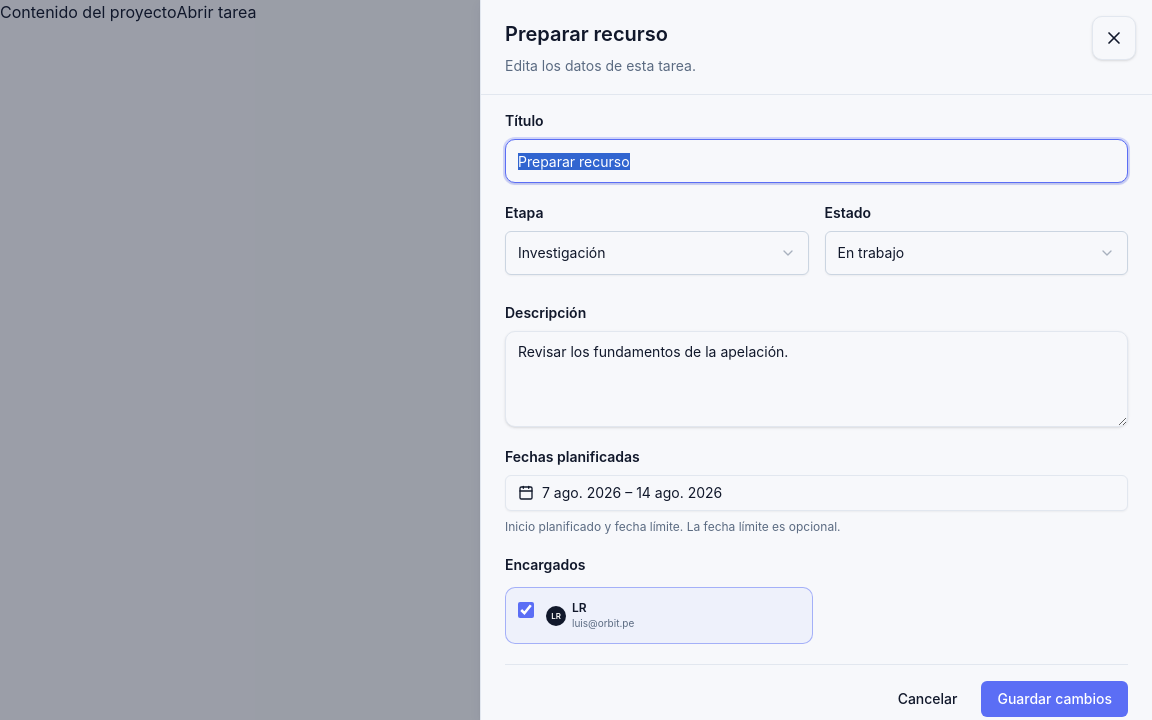
Test: ProjectTaskSheet › does not cache retained stale data when an update-conflict refetch fails
The width and height of the screenshot is (1152, 720).
Step 1. Replace the text in the field labelled "Título" with "Mi edición desactualizada" → {"x": 816, "y": 161}, box x1=505 y1=139 x2=1128 y2=183
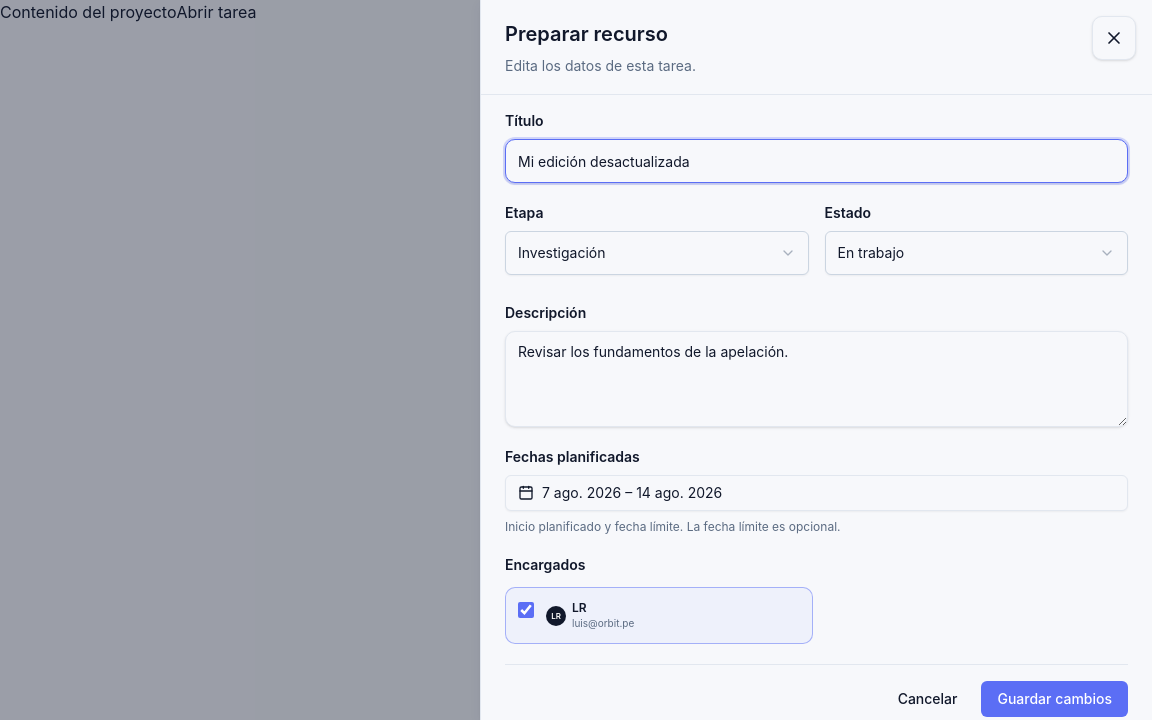
Step 2. Click the button "Guardar cambios" → {"x": 1055, "y": 699}, box x1=982 y1=681 x2=1128 y2=717
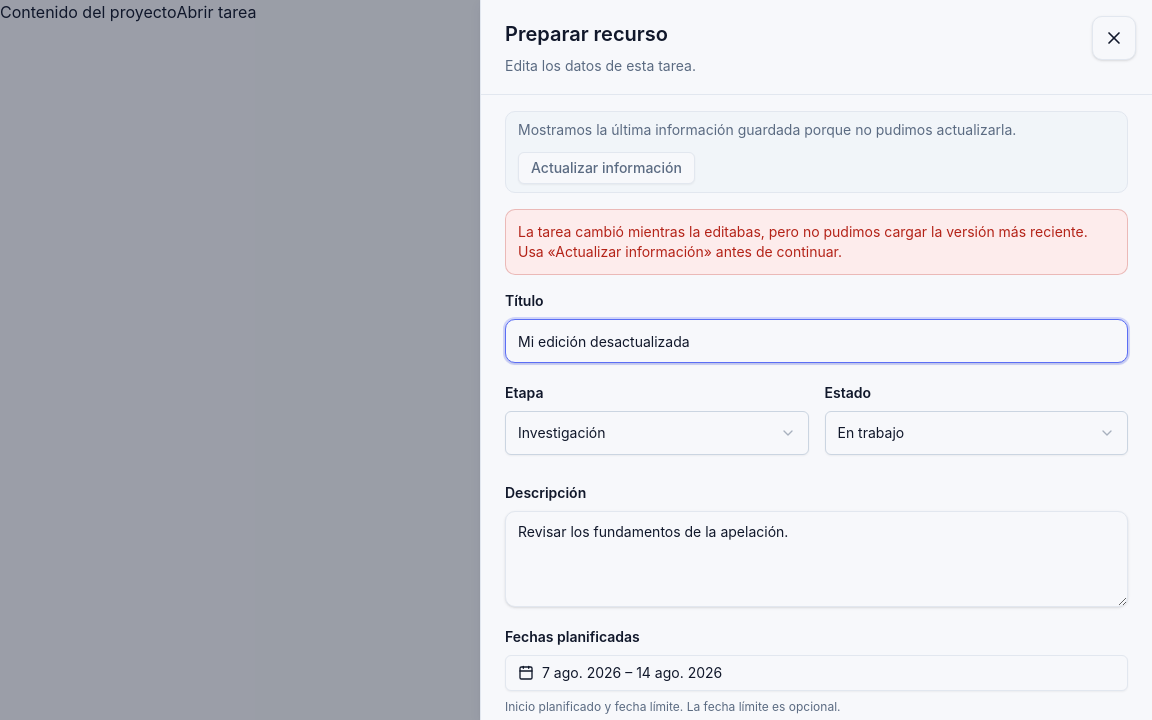
Expected: the 2nd message shows "La tarea cambió mientras la editabas, pero no pudimos cargar la versión más reciente. Usa «Actualizar información» antes de continuar.", x1=518 y1=223 x2=1088 y2=260
Expected: the button "Actualizar información" is enabled, x1=518 y1=152 x2=695 y2=184
